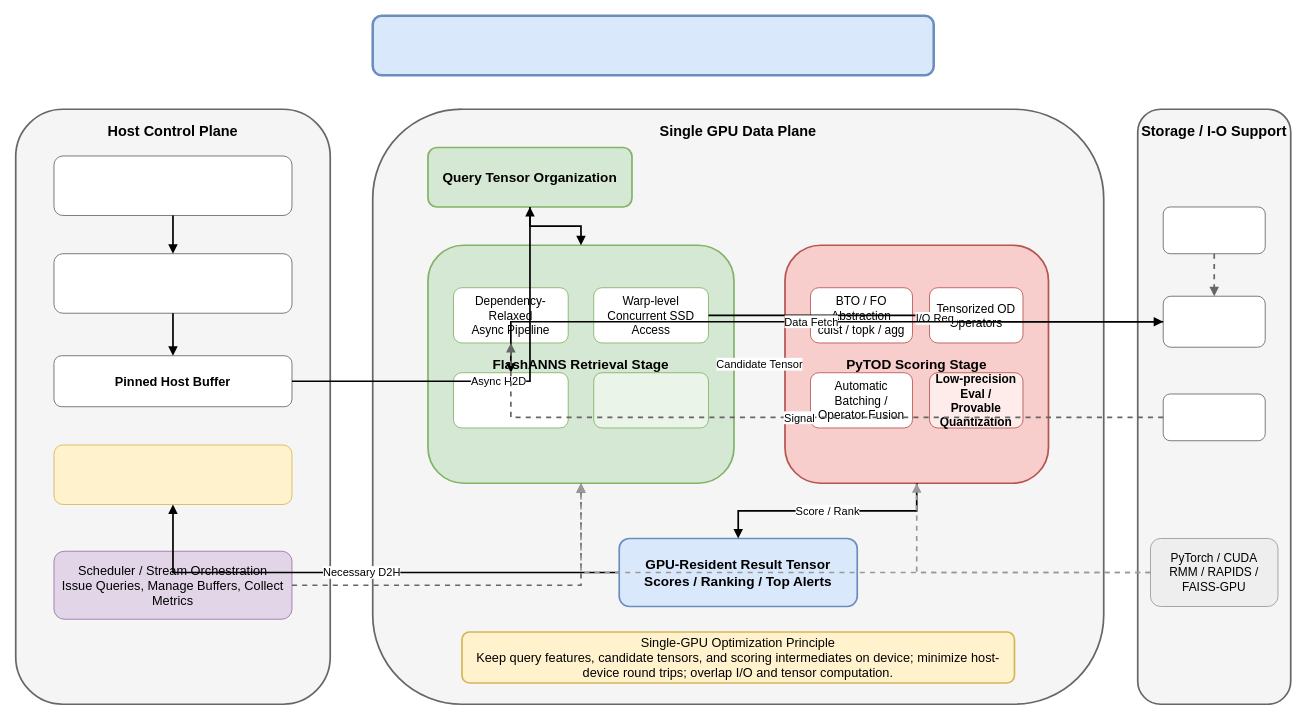
Some shapes in this 1306 by 720 pixel diagram are drawn without their labels. The centre of each missing label's shape, as x and y in pixels:
"Async H2D / D2H Boundary Only Final Scores / Necessary Logs Return" goes at point 172,474.
"Candidate Tensor Stays on GPU" goes at point 650,400.
"Completion Signals" goes at point 1213,417.
"CPU-managed I/O Queue" goes at point 1213,321.
"CPU-side Minimal Preprocess Schema Align / Metadata / Logging" goes at point 172,283.
"Double Buffer A / B" goes at point 510,400.
"Financial Records Transactions / Behaviors / Context" goes at point 172,185.
"Single-GPU Technical Route" goes at point 653,45.
"SSD / NVMe Index" goes at point 1213,230.
